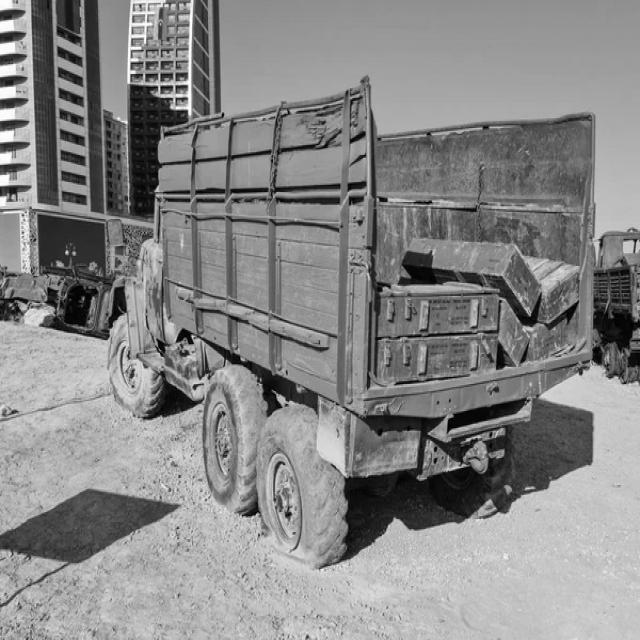Truck: (108, 78, 596, 568)
